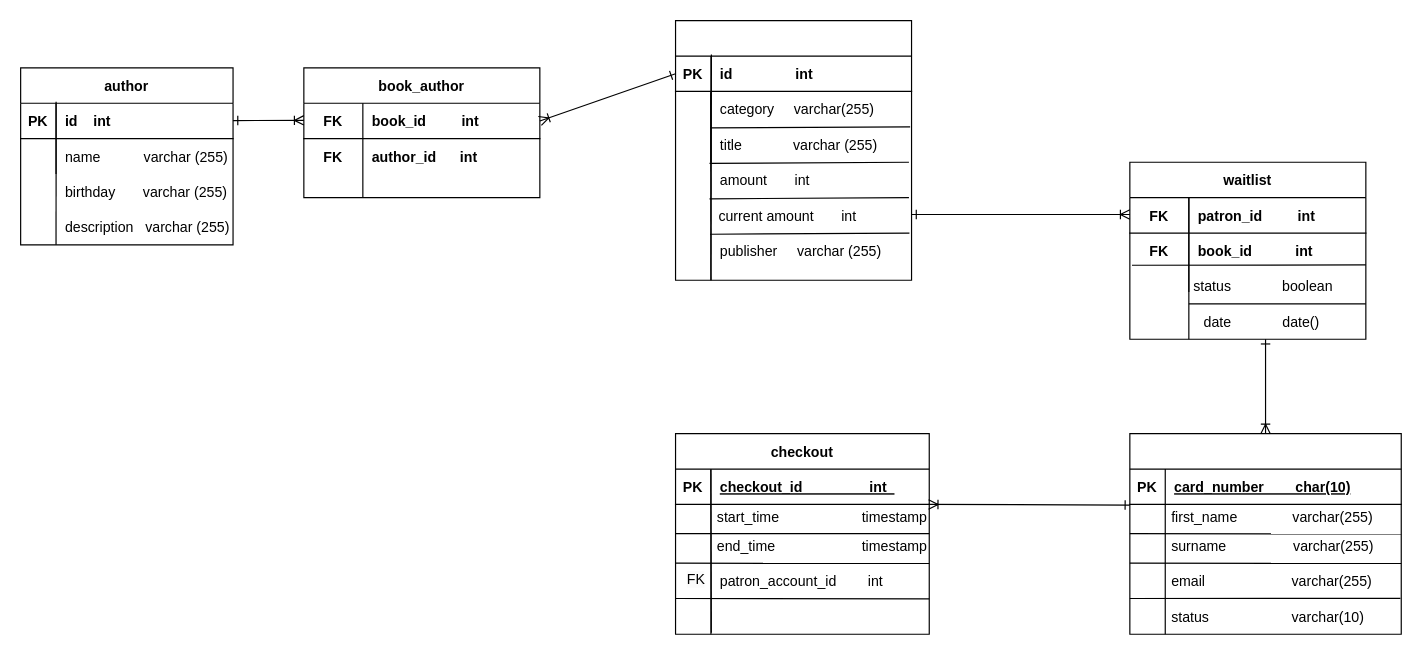
The diagram is 1428 pixels wide and 655 high, and some of its shapes have lost their labels. Here are the shapes that lost their labels. From the top down, the box of each, then its label:
(674, 19, 912, 280): book
(1129, 432, 1401, 634): patron_account
